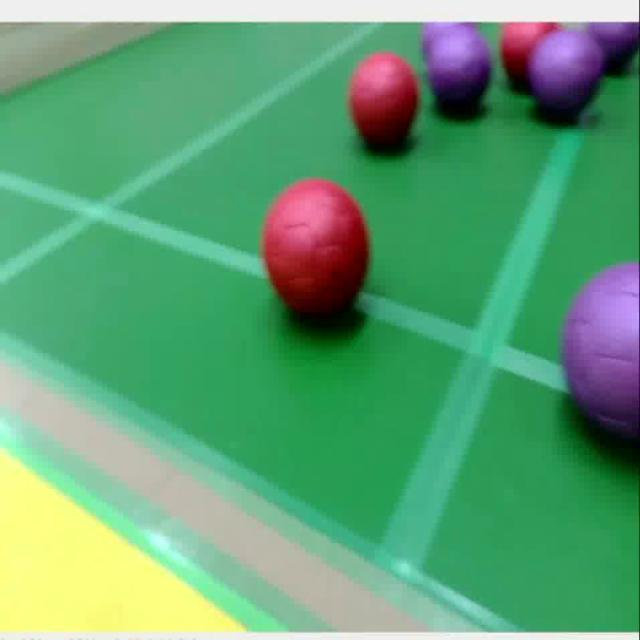purple_ball: (561, 254, 640, 466), (430, 32, 495, 119), (539, 34, 599, 128), (589, 22, 640, 70), (420, 21, 480, 60)
red_ball: (264, 182, 374, 321), (349, 56, 419, 153), (500, 23, 536, 92)
